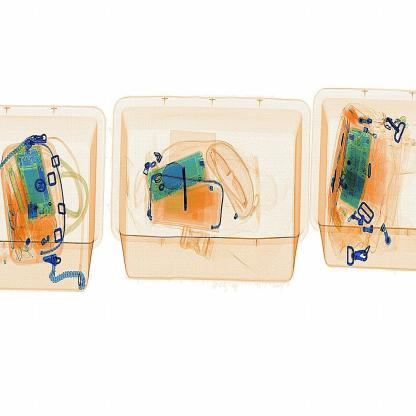knife: (176, 157, 198, 211)
